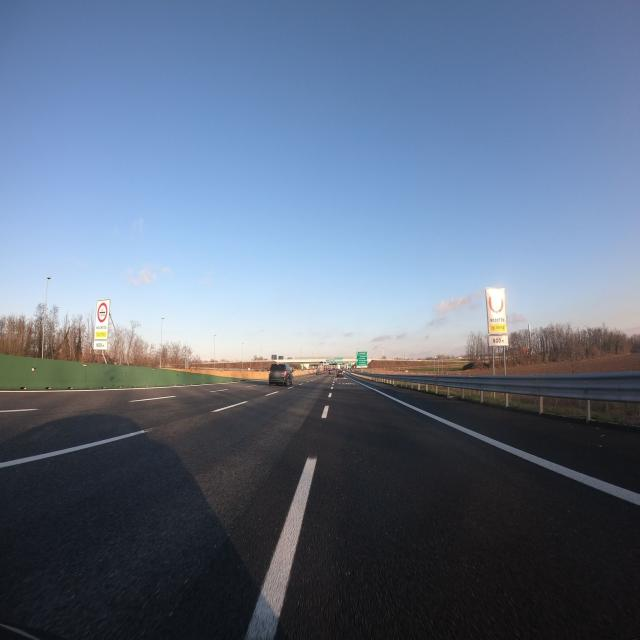car: (268, 361, 294, 387)
